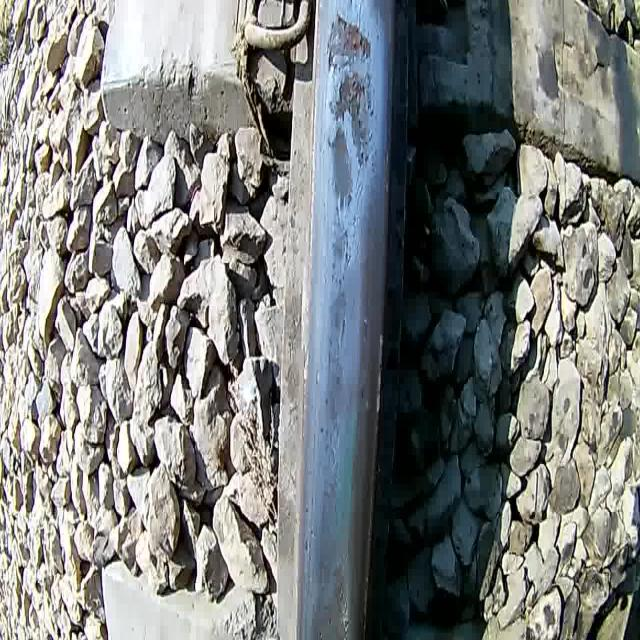Spallings: (320, 11, 381, 69)
Squats: (318, 68, 379, 446), (306, 467, 355, 640)
